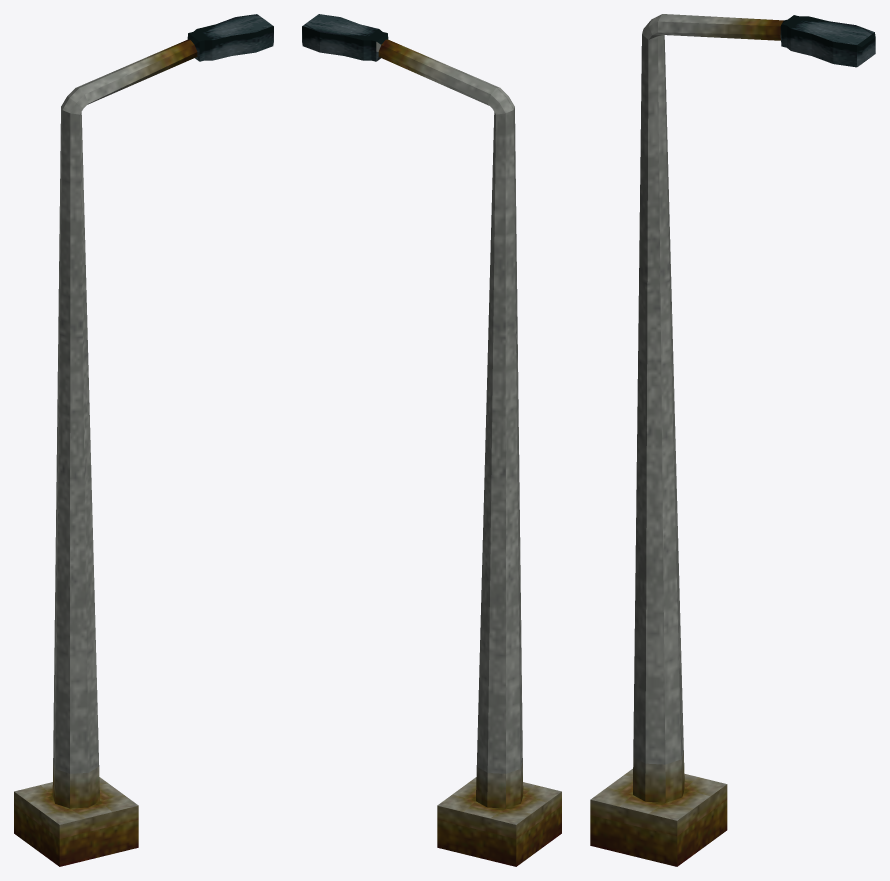
Rendered from Urban_StreetLight_Model.fbx.
3 renders of one model, left to right at view 1: azimuth 30°, elevation 25°; view 2: azimuth 150°, elevation 25°; view 3: azimuth 330°, elevation 25°, orthographic. The views are drawn at different scales.
Parts seen in each view (by area): view 1: Urban_StreetLight_Mesh; view 2: Urban_StreetLight_Mesh; view 3: Urban_StreetLight_Mesh.
Boxes of the visible parts, x1=… form: Urban_StreetLight_Mesh: x1=14, y1=14, x2=273, y2=866; Urban_StreetLight_Mesh: x1=302, y1=14, x2=561, y2=866; Urban_StreetLight_Mesh: x1=590, y1=14, x2=875, y2=866.
Size of the model in its own units: 2.06 by 6.61 by 0.7063.
